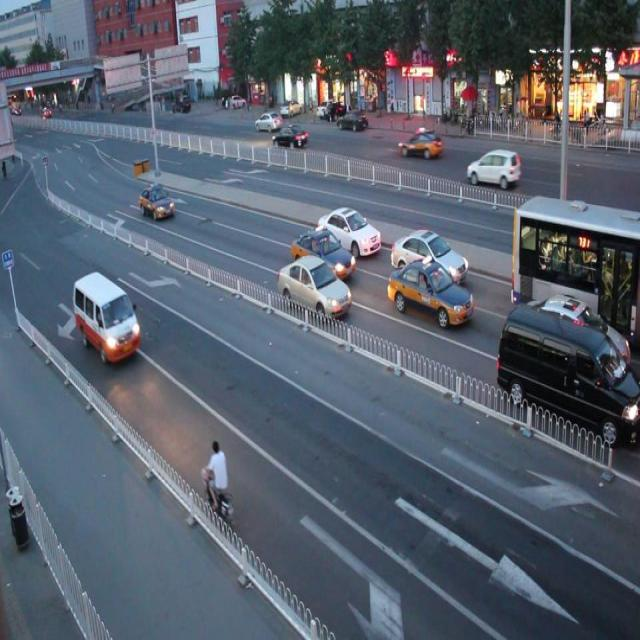car: (514, 293, 628, 393), (388, 260, 474, 330), (278, 256, 352, 318), (390, 228, 467, 283), (291, 225, 354, 282), (316, 204, 381, 254), (464, 147, 518, 187), (398, 126, 442, 160), (140, 183, 175, 219), (272, 124, 309, 149)
truck: (496, 300, 640, 446), (74, 272, 141, 362)
van: (510, 193, 640, 350)
